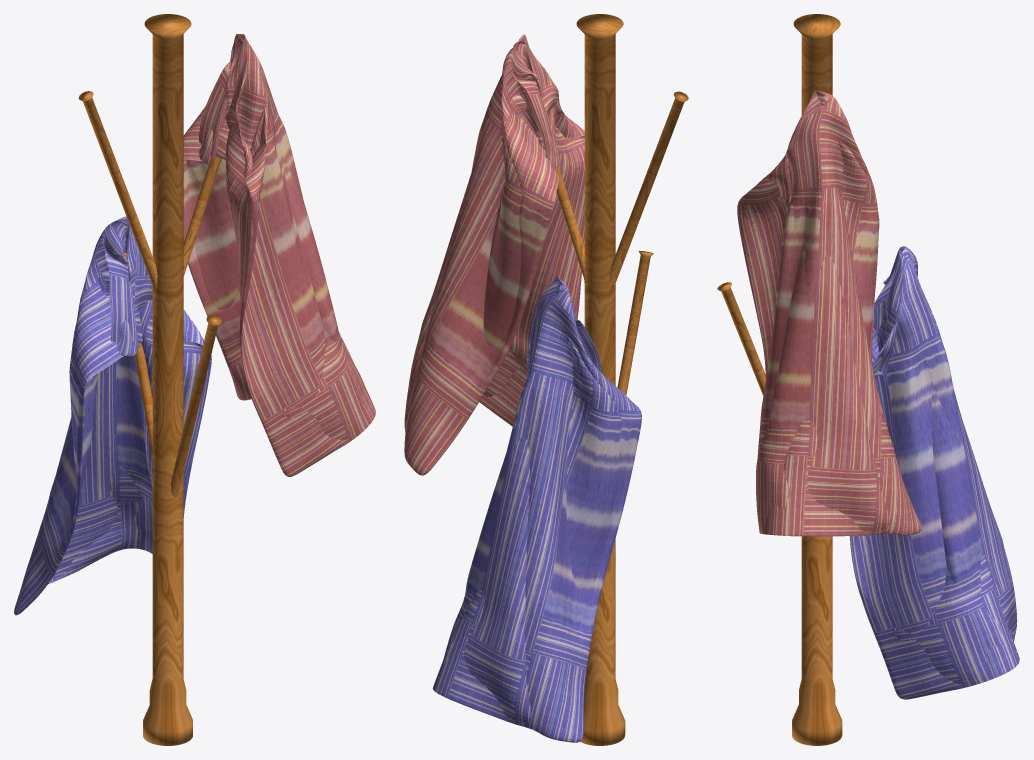
File: CoatRack.fbx
3 renders of one model, left to right at view 1: azimuth 30°, elevation 25°; view 2: azimuth 150°, elevation 25°; view 3: azimuth 270°, elevation 25°, orthographic.
Parts seen in each view (by area): view 1: Plane.002; view 2: Plane.002; view 3: Plane.002.
Boxes of the visible parts, <box> form: Plane.002: <box>14,14,375,745</box>; Plane.002: <box>404,14,688,745</box>; Plane.002: <box>717,14,1019,745</box>.
Bounding box in the file's own units: 312 × 759 × 292.
3 materials, 3 textured.
